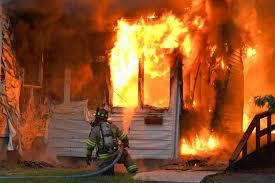fire: (107, 7, 272, 159), (178, 129, 222, 156), (241, 111, 275, 138)
